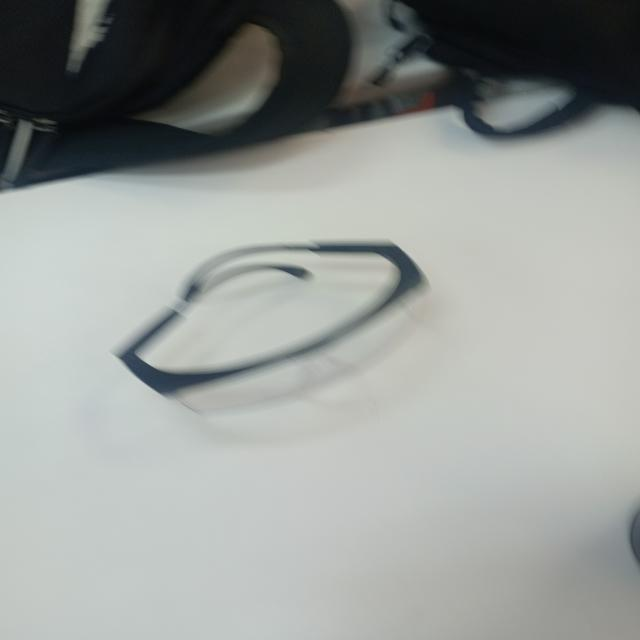oculos-epi: (116, 241, 429, 413)
